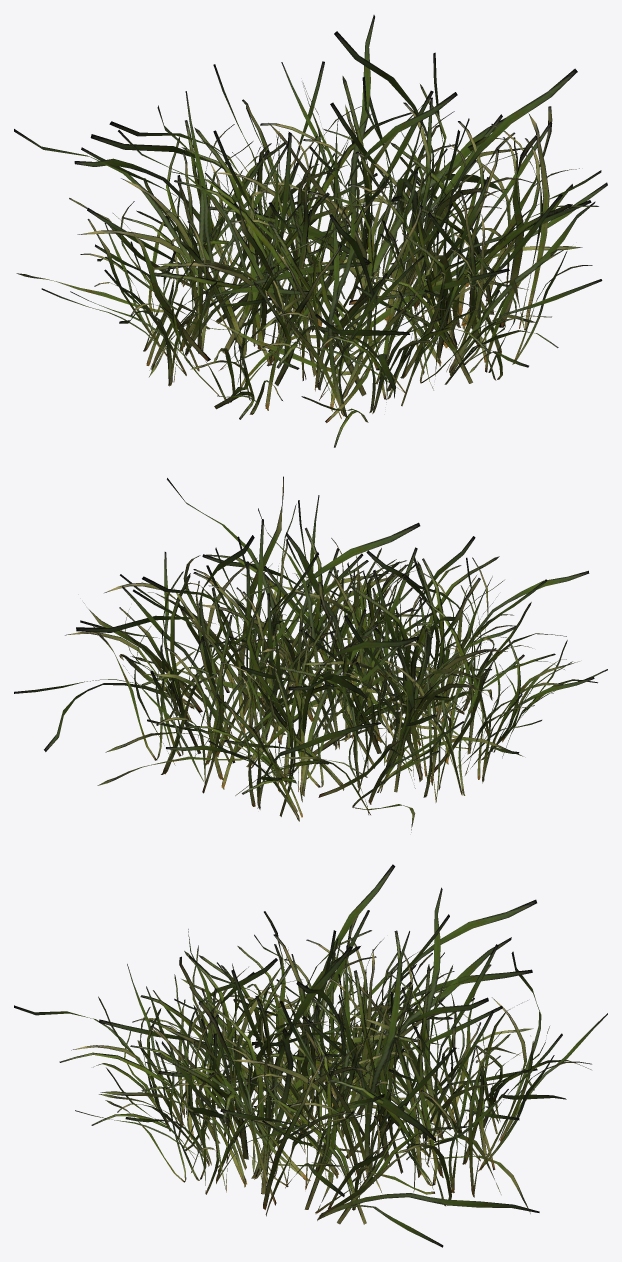
File: grass_LOD01.glb
The picture shows the model from 3 angles, top to bottom: view 1: azimuth 30°, elevation 25°; view 2: azimuth 150°, elevation 25°; view 3: azimuth 270°, elevation 25°; orthographic projection. The views are drawn at different scales.
Visible parts, largest first — view 1: grass_medium_01_geonodes_large_a_LOD0; view 2: grass_medium_01_geonodes_large_a_LOD0; view 3: grass_medium_01_geonodes_large_a_LOD0.
Part boxes in pixels (<box>): grass_medium_01_geonodes_large_a_LOD0: <box>14,15,607,447</box>; grass_medium_01_geonodes_large_a_LOD0: <box>14,476,607,832</box>; grass_medium_01_geonodes_large_a_LOD0: <box>14,864,607,1247</box>.
Bounding box in the file's own units: 0.317 × 0.1467 × 0.3266.
1 material, 1 textured.
